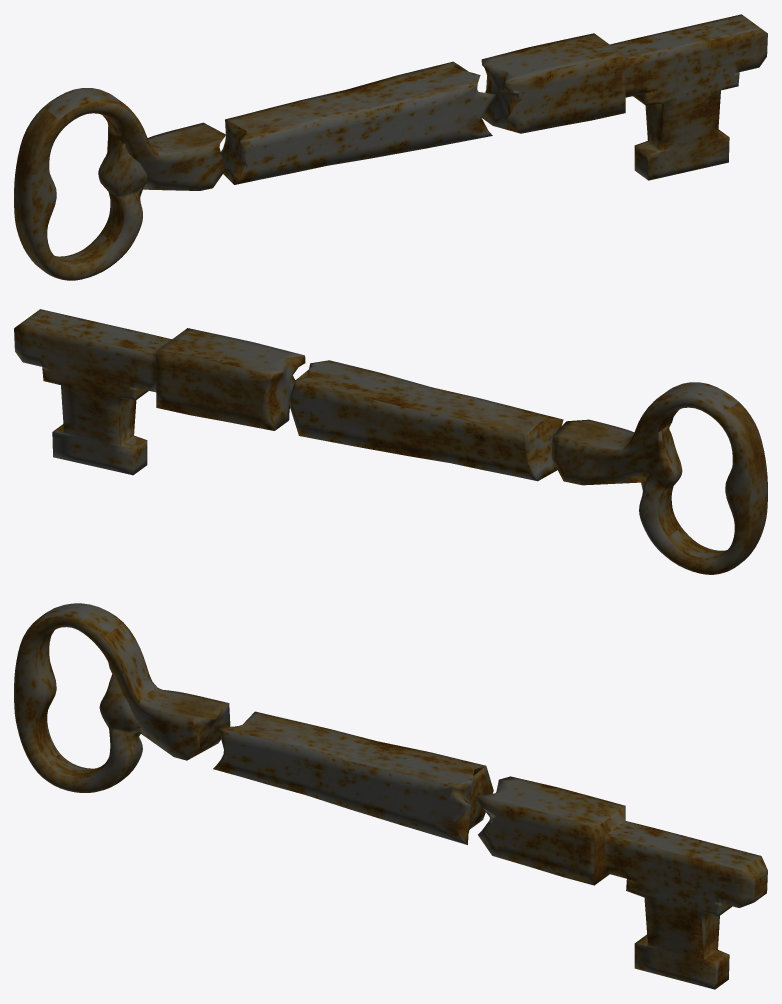
File: KEY.fbx
3 views of the same model, one above another, from view 1: azimuth 30°, elevation 25°; view 2: azimuth 150°, elevation 25°; view 3: azimuth 330°, elevation 25° (orthographic).
Parts seen in each view (by area): view 1: Cube.001, Cube, Cube.002; view 2: Cube.001, Cube, Cube.002; view 3: Cube.001, Cube, Cube.002.
Boxes of the visible parts, box(x1,y1,x2,y2) form: Cube.001: box(481, 14, 767, 180); Cube: box(221, 61, 496, 184); Cube.002: box(14, 88, 225, 280); Cube.001: box(14, 309, 305, 475); Cube: box(288, 360, 563, 481); Cube.002: box(551, 382, 767, 574); Cube.001: box(476, 776, 767, 989); Cube: box(213, 711, 493, 844); Cube.002: box(14, 603, 230, 792).
Size of the model in its own units: 11.77 by 3.33 by 0.8777.
1 material, 1 textured.
